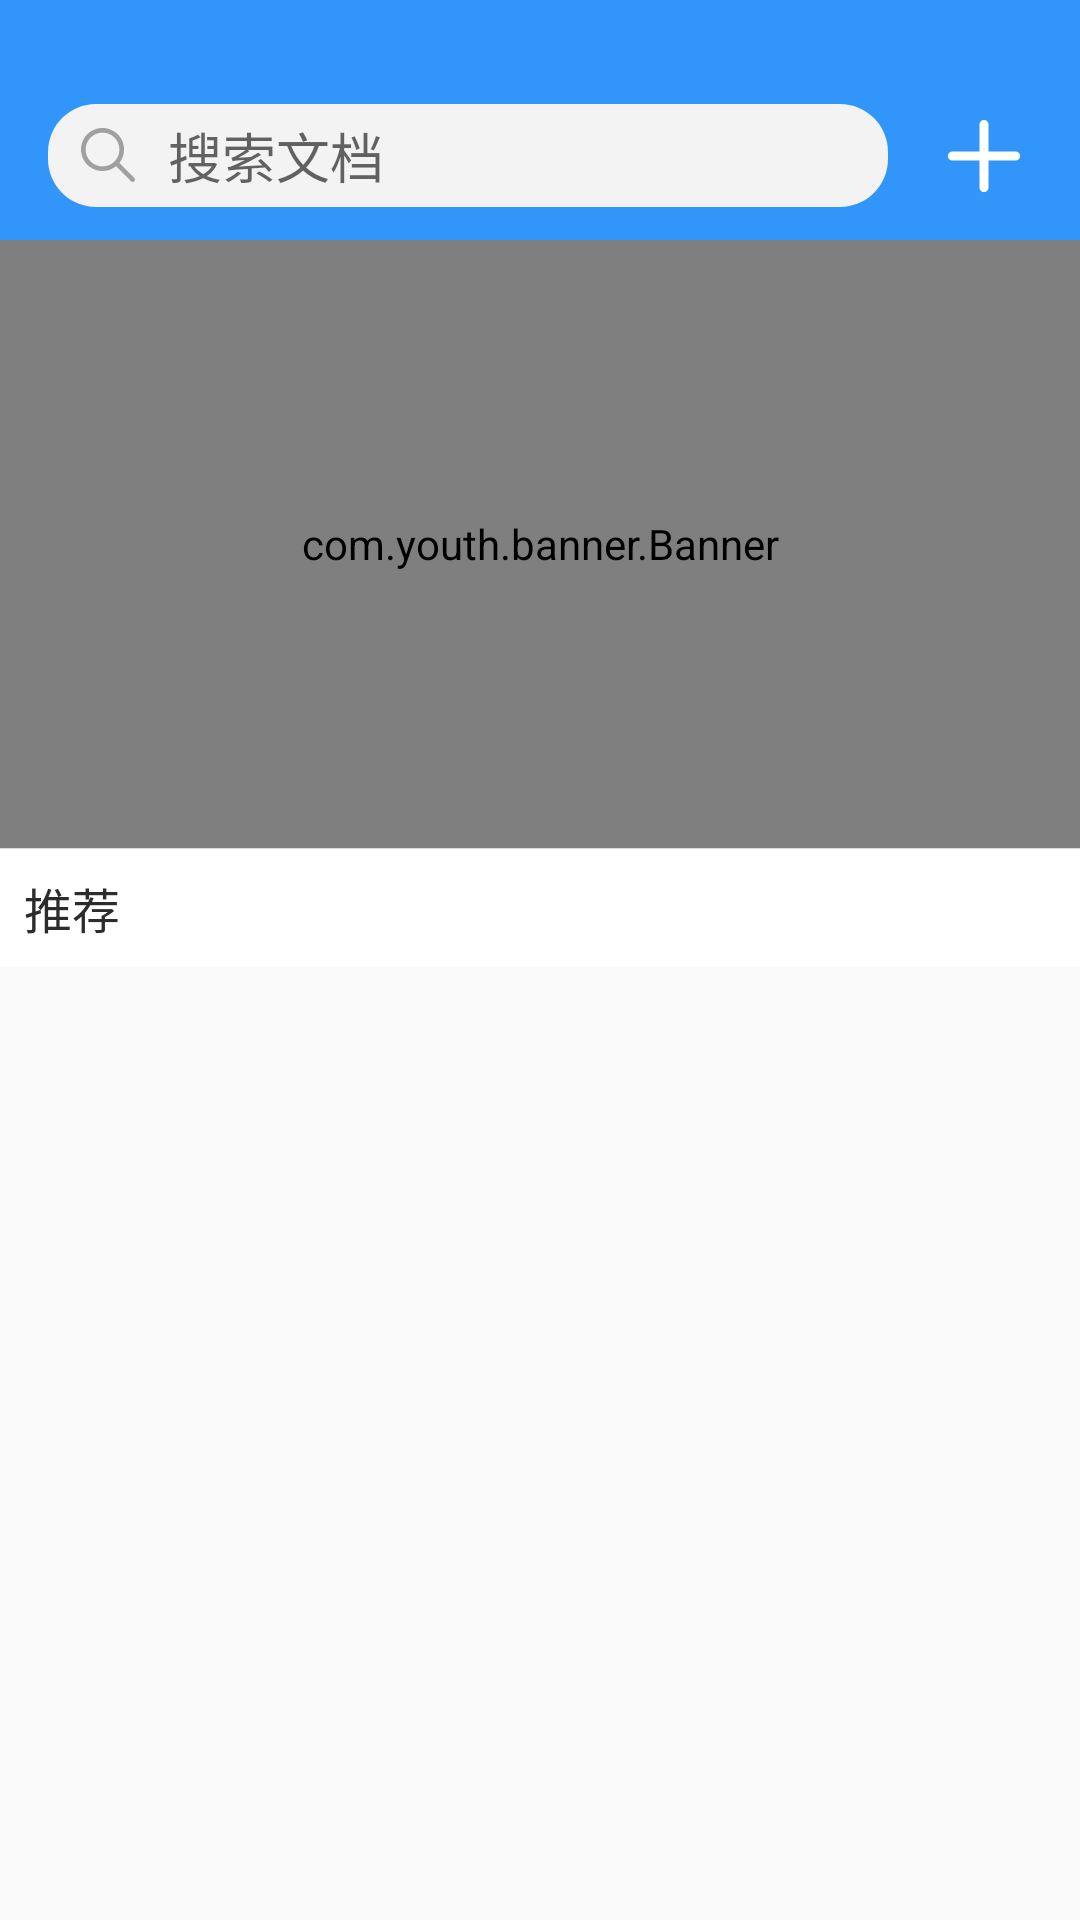

Icons on this 1080px×1920px Android screen, each with its box as (x1, y1, x2, y2):
add: (948, 120, 1020, 192)
